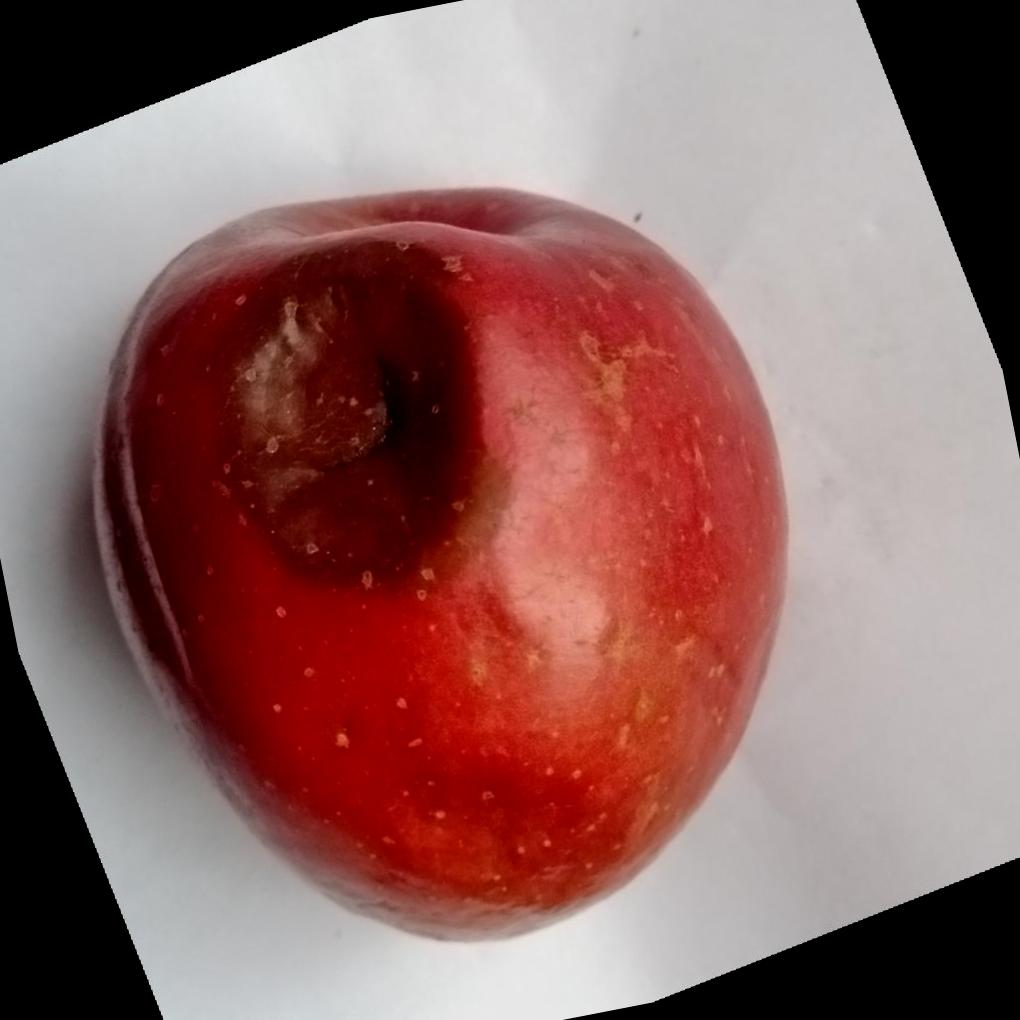FreshOrange: (89, 186, 794, 948)
